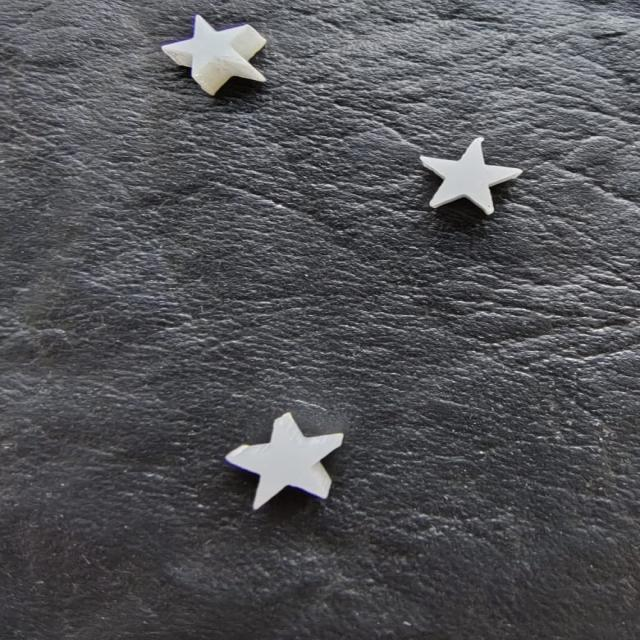estrellas: (226, 423, 338, 512), (420, 138, 520, 211), (161, 15, 247, 78)
